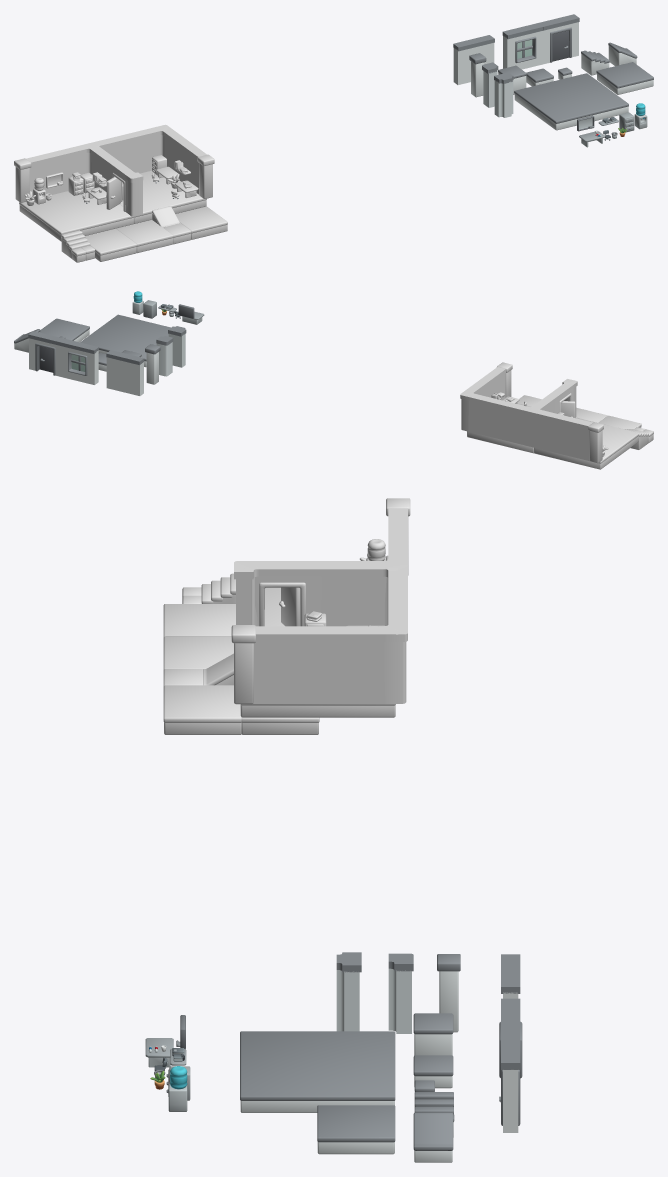
Rendered from mini toon office pack.fbx.
The picture shows the model from 3 angles, top to bottom: view 1: azimuth 30°, elevation 25°; view 2: azimuth 150°, elevation 25°; view 3: azimuth 270°, elevation 25°; orthographic projection. The views are drawn at different scales.
Parts seen in each view (by area): view 1: toon__office_tile_ground_low_4x4, toon_tilebase_ground_low_4x4.004, toon_tilebase_ground_low_4x4.003, toon_office_tile_wall_window, toon_office_tile_ground_low_2x2, toon_office_tile_wall, toon_tilebase_wall.006, toon_office_tile_wall_door, toon_tilebase_ground_low_2x2.002, toon_tilebase_ground_low_2x2.003, toon_tilebase_ground_low_2x2.004, toon_tilebase_wall.003 (+21 smaller); view 2: toon__office_tile_ground_low_4x4, toon_office_tile_wall, toon_office_tile_wall_window, toon_tilebase_ground_low_4x4.004, toon_tilebase_wall.006, toon_tilebase_wall.003, toon_tilebase_wall.005, toon_tilebase_wall.002, toon_office_tile_wall_door, toon_office_tile_ground_low_2x2, toon_office_tile_wallconnect, toon_office_tile_wallcorner (+12 smaller); view 3: toon__office_tile_ground_low_4x4, toon_tilebase_wall.008, toon_tilebase_wall.007, toon_tilebase_wall.004, toon_office_tile_ground_low_2x2, toon_tilebase_ground_low_2x2.004, toon_tilebase_wall_door.001, toon_tilebase_ground_low_2x2.002, toon_tilebase_ground_low_4x4.003, toon_tilebase_ground_low_2x2.003, toon_office_tile_ground_slope, toon_office_tile_wall_door (+10 smaller).
Part boxes in pixels (x1,y1,x2,y2): toon__office_tile_ground_low_4x4: [514, 73, 628, 130]; toon_tilebase_ground_low_4x4.004: [19, 191, 134, 241]; toon_tilebase_ground_low_4x4.003: [120, 170, 206, 223]; toon_office_tile_wall_window: [502, 23, 542, 69]; toon_office_tile_ground_low_2x2: [596, 62, 653, 94]; toon_office_tile_wall: [453, 35, 494, 84]; toon_tilebase_wall.006: [125, 125, 162, 173]; toon_office_tile_wall_door: [538, 14, 579, 64]; toon_tilebase_ground_low_2x2.002: [85, 228, 136, 261]; toon_tilebase_ground_low_2x2.003: [116, 220, 173, 253]; toon_tilebase_ground_low_2x2.004: [175, 206, 227, 239]; toon_tilebase_wall.003: [53, 143, 93, 193]; toon__office_tile_ground_low_4x4: [80, 314, 170, 367]; toon_office_tile_wall: [106, 350, 144, 395]; toon_office_tile_wall_window: [60, 339, 98, 384]; toon_tilebase_ground_low_4x4.004: [534, 417, 639, 469]; toon_tilebase_wall.006: [464, 393, 501, 438]; toon_tilebase_wall.003: [531, 408, 568, 454]; toon_tilebase_wall.005: [497, 400, 532, 444]; toon_tilebase_wall.002: [564, 417, 592, 461]; toon_office_tile_wall_door: [28, 331, 66, 376]; toon_office_tile_ground_low_2x2: [40, 318, 89, 342]; toon_office_tile_wallconnect: [168, 326, 186, 367]; toon_office_tile_wallcorner: [156, 336, 173, 376]; toon__office_tile_ground_low_4x4: [240, 1031, 395, 1112]; toon_tilebase_wall.008: [253, 626, 321, 703]; toon_tilebase_wall.007: [321, 626, 397, 703]; toon_tilebase_wall.004: [321, 561, 397, 626]; toon_office_tile_ground_low_2x2: [317, 1105, 395, 1154]; toon_tilebase_ground_low_2x2.004: [163, 685, 241, 734]; toon_tilebase_wall_door.001: [243, 561, 321, 626]; toon_tilebase_ground_low_2x2.002: [163, 604, 235, 637]; toon_tilebase_ground_low_4x4.003: [240, 704, 395, 717]; toon_tilebase_ground_low_2x2.003: [163, 636, 233, 669]; toon_office_tile_ground_slope: [413, 1112, 453, 1162]; toon_office_tile_wall_door: [501, 1030, 520, 1132].
Bounding box in the file's own units: 34.36 × 3.04 × 9.76.
Materials: 2 (1 with a texture image).
